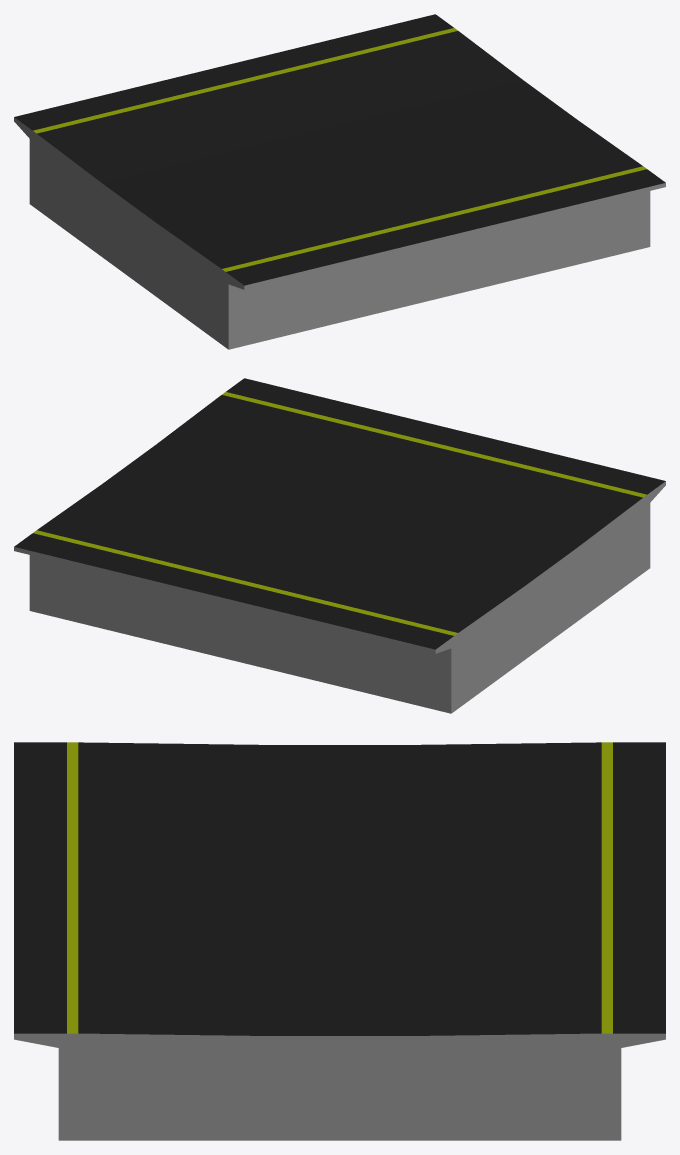
Rendered from Platform-1_double.obj.
The picture shows the model from 3 angles, top to bottom: view 1: azimuth 30°, elevation 25°; view 2: azimuth 150°, elevation 25°; view 3: azimuth 270°, elevation 25°; orthographic projection. The views are drawn at different scales.
Visible parts, largest first — view 1: Cube_Cube.001; view 2: Cube_Cube.001; view 3: Cube_Cube.001.
Boxes of the visible parts, box(x1,y1,x2,y2) form: Cube_Cube.001: box(14, 14, 665, 349); Cube_Cube.001: box(14, 378, 665, 713); Cube_Cube.001: box(14, 742, 665, 1140).
Size of the model in its own units: 10.5 by 1.8 by 9.94.
